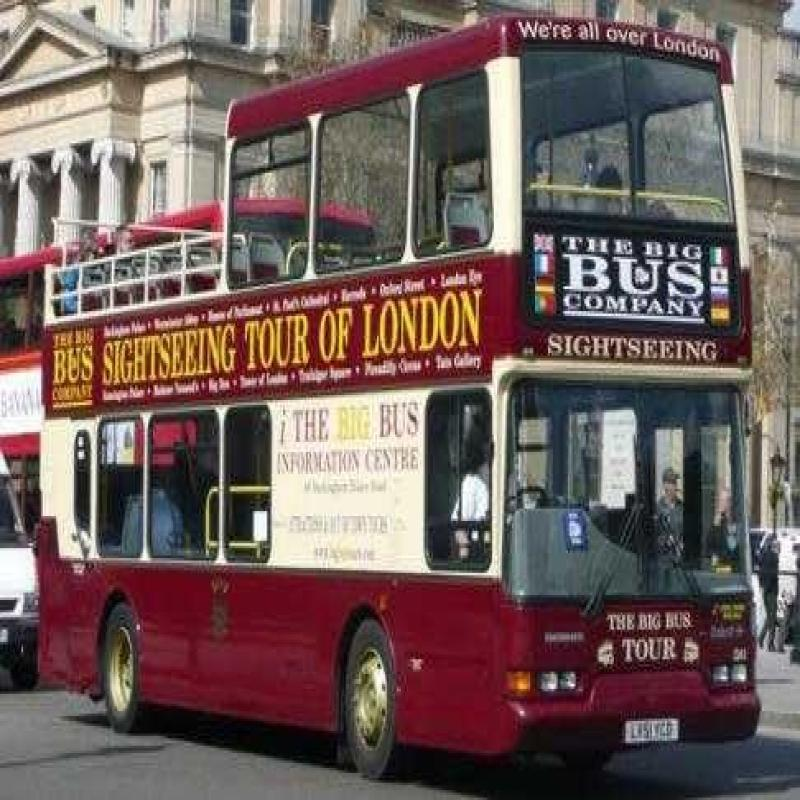bus: (33, 25, 800, 800)
